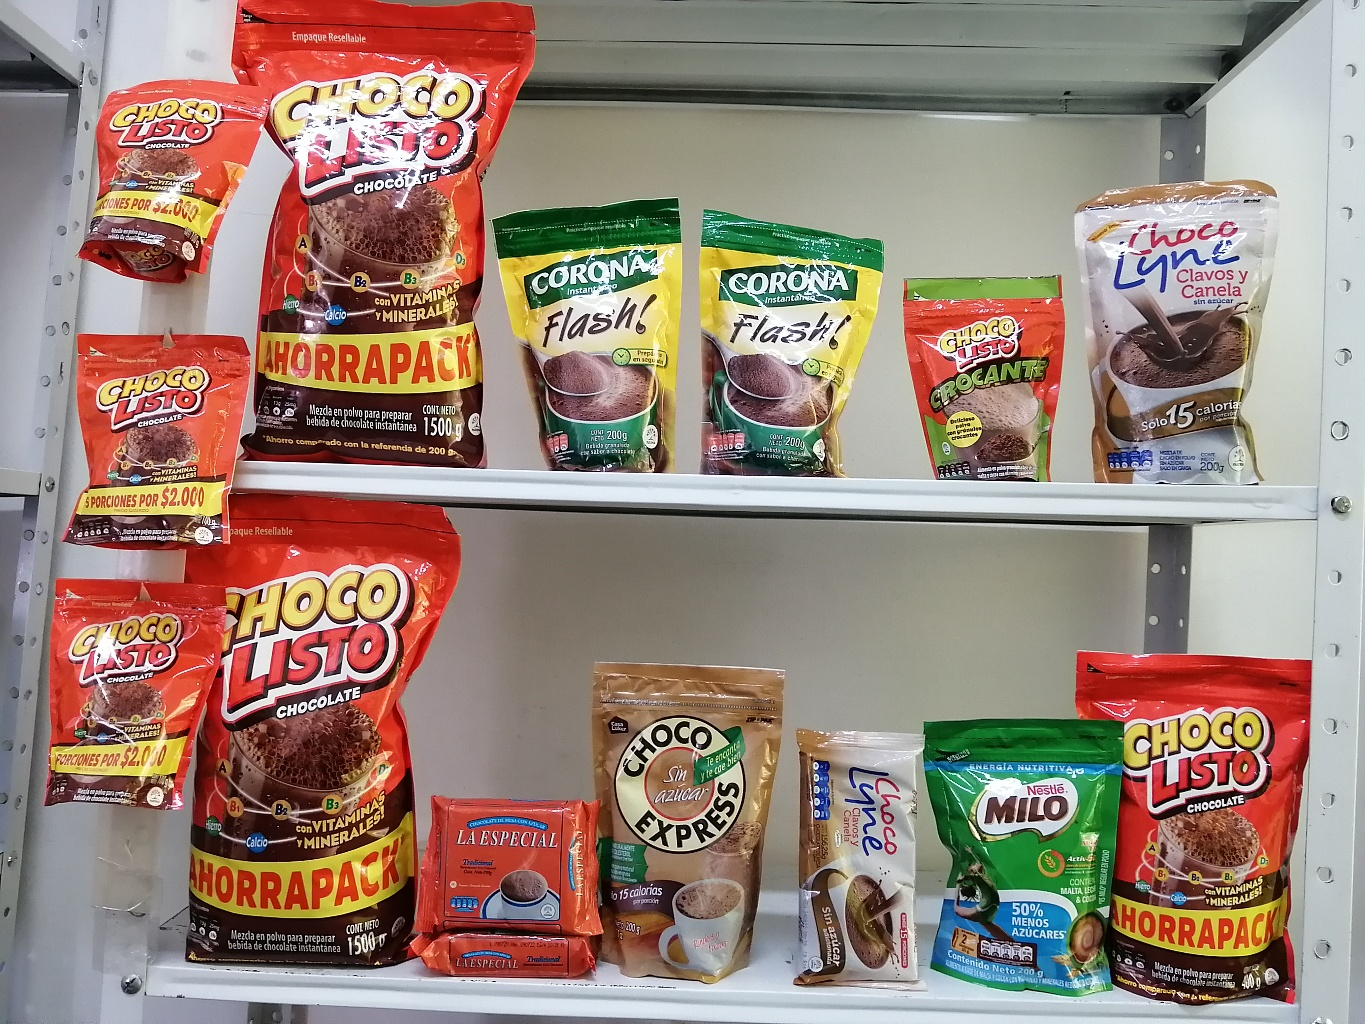COL0170102DYP10000: (894, 256, 1094, 487)
COL0170103DYP1,500: (167, 483, 467, 981)
COL0170103DYP10000: (69, 67, 283, 290)
COL0170103DYP40000: (1060, 632, 1317, 1015)
COL0170205DYP20000: (906, 692, 1135, 1002)
